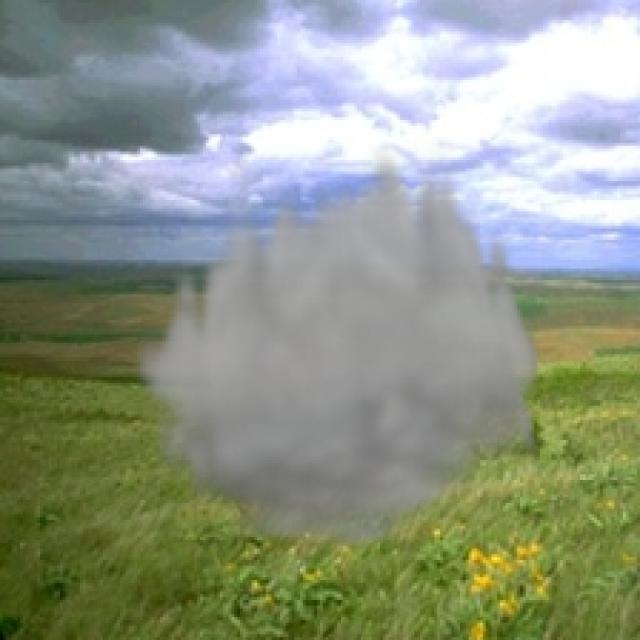smoke: (128, 137, 546, 557)
